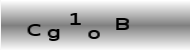1: (69, 12, 82, 26)
B: (114, 17, 130, 30)
C: (25, 22, 41, 37)
g: (47, 28, 60, 41)
o: (86, 29, 101, 40)
